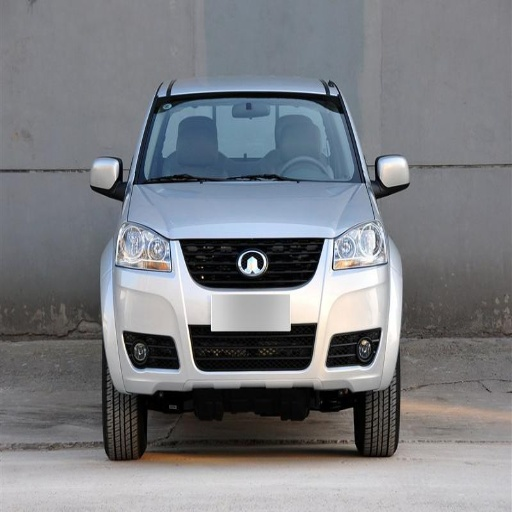front_bumper: (111, 237, 396, 394)
front_right_light: (117, 222, 171, 273)
hood: (129, 183, 371, 238)
left_mirror: (373, 155, 411, 198)
